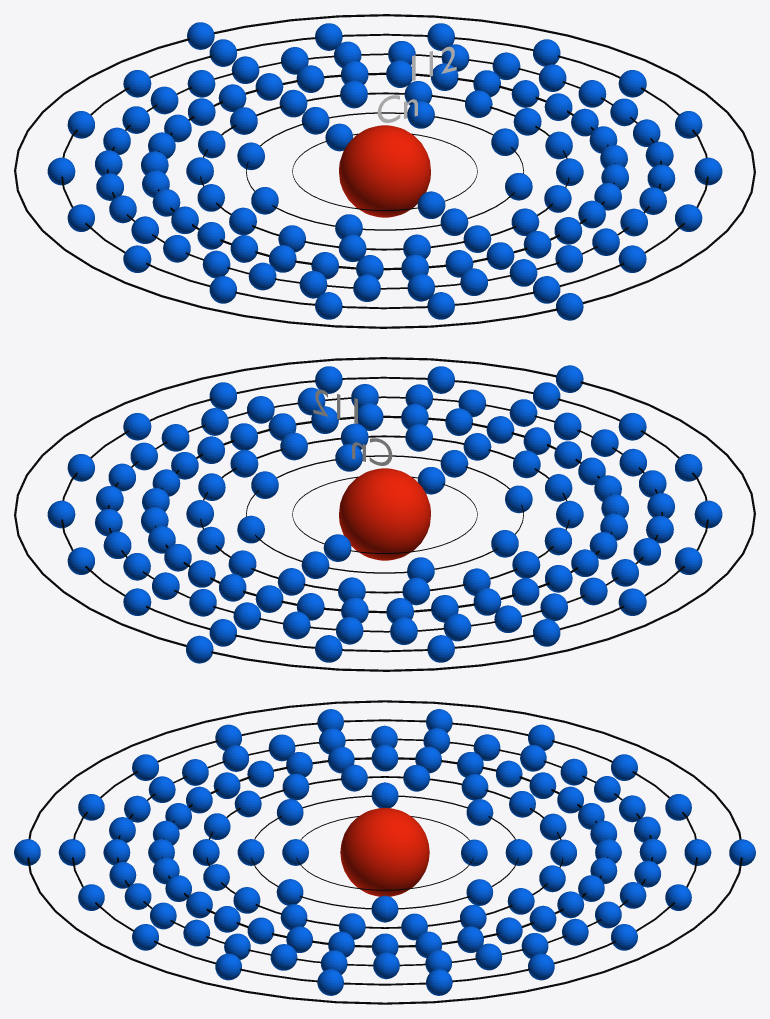
3 views of the same model, one above another, from view 1: azimuth 30°, elevation 25°; view 2: azimuth 150°, elevation 25°; view 3: azimuth 270°, elevation 25° (orthographic). The views are drawn at different scales.
Parts seen in each view (by area): view 1: Cn5, Cn4, Cn6, Cn3, Proton, Cn2, n7, n6, n5, Cn7, Cn1, n3 (+2 smaller); view 2: Cn5, Cn4, Cn6, Cn3, Proton, Cn2, n7, n6, n5, Cn7, Cn1, n3 (+2 smaller); view 3: Cn5, Cn4, Cn3, Cn6, Proton, Cn2, n7, n6, n5, Cn1, Cn7, n3 (+2 smaller).
Part boxes in pixels (x1,y1,x2,y2): Cn5: (95,41,675,301); Cn4: (141,60,628,280); Cn6: (47,23,722,319); Cn3: (186,80,583,261); Proton: (339,125,430,217); Cn2: (237,101,532,239); n7: (14,14,755,328); n6: (61,33,708,309); n5: (106,53,661,289); Cn7: (187,22,583,320); Cn1: (325,123,445,218); n3: (200,92,569,250); Cn5: (95,384,674,644); Cn4: (141,403,628,623); Cn6: (47,366,722,662); Cn3: (186,423,583,605); Proton: (339,468,430,560); Cn2: (237,444,532,582); n7: (14,357,755,671); n6: (61,376,708,652); n5: (107,396,663,632); Cn7: (186,365,583,663); Cn1: (323,467,445,561); n3: (200,435,569,593); Cn5: (103,725,666,979); Cn4: (148,744,621,957); Cn3: (193,764,576,940); Cn6: (58,709,711,995); Proton: (340,808,429,896); Cn2: (237,782,532,922); n7: (27,700,742,1004); n6: (72,719,697,985); n5: (117,738,652,966); Cn1: (282,839,487,866); Cn7: (14,839,755,865); n3: (206,776,563,928).
Size of the model in its own units: 802 by 180 by 830.
